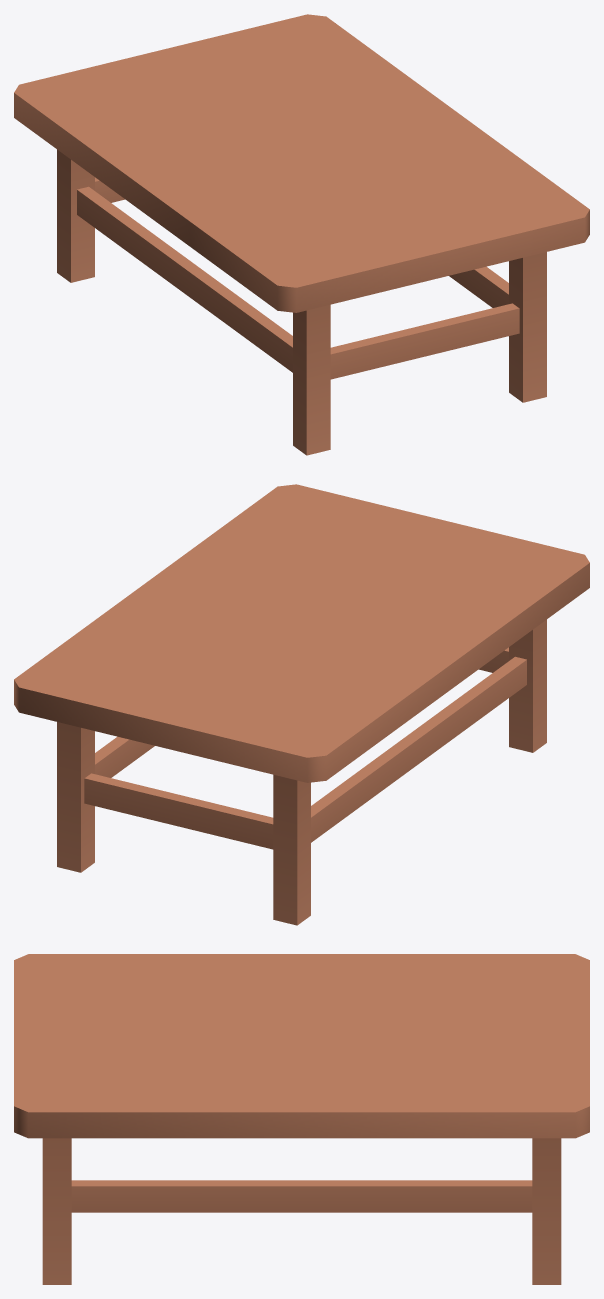
The model's file is stall_0.fbx.
The picture shows the model from 3 angles, top to bottom: view 1: azimuth 30°, elevation 25°; view 2: azimuth 150°, elevation 25°; view 3: azimuth 270°, elevation 25°; orthographic projection. The views are drawn at different scales.
Parts seen in each view (by area): view 1: stall_0; view 2: stall_0; view 3: stall_0.
Boxes of the visible parts, left/top/right/bottom form: stall_0: left=14, top=14, right=589, bottom=455; stall_0: left=14, top=484, right=589, bottom=925; stall_0: left=14, top=954, right=589, bottom=1284.
Bounding box in the file's own units: 0.65 × 0.3655 × 1.
Materials: 1 (1 with a texture image).
